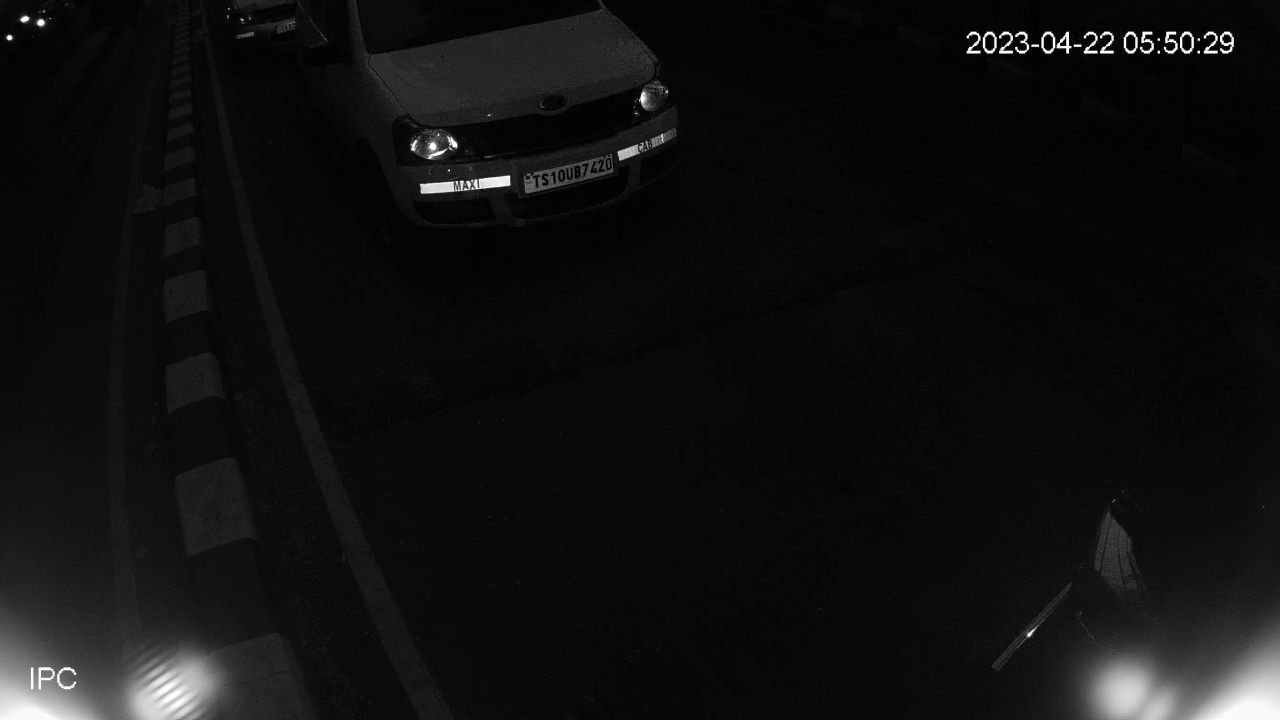license_plate: (517, 145, 621, 200)
